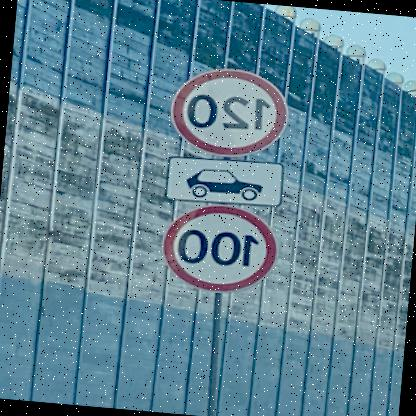speedlimit: (169, 63, 293, 159), (162, 199, 282, 297)
